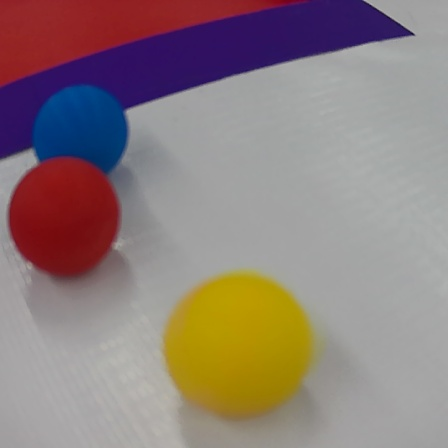blue: (32, 84, 126, 178)
red: (8, 160, 121, 280)
red_aim: (2, 0, 410, 166)
yellow: (161, 270, 313, 418)
